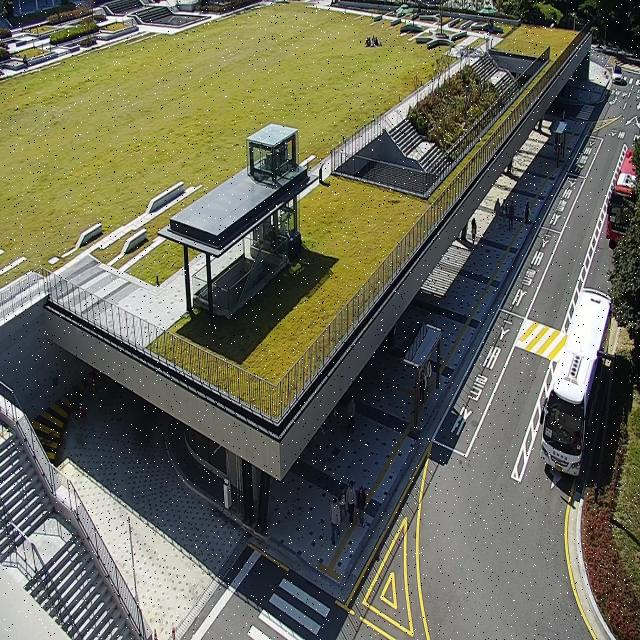queue: (416, 329, 440, 432)
